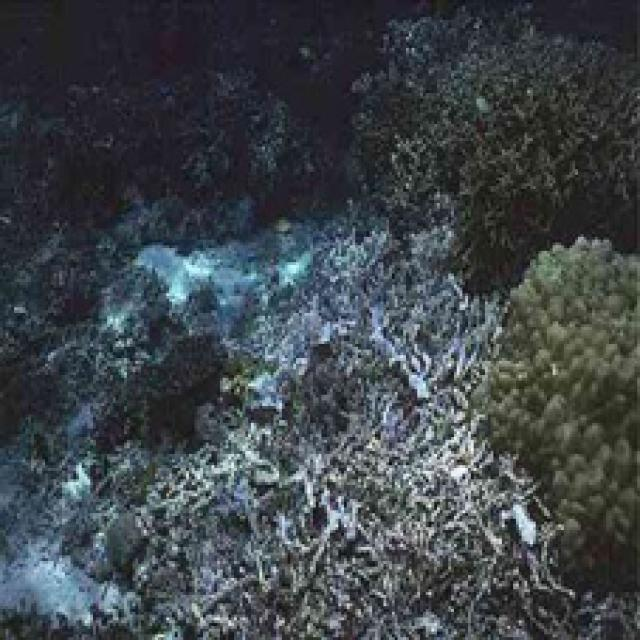Dead Coral: (0, 1, 640, 240), (188, 337, 523, 640)
